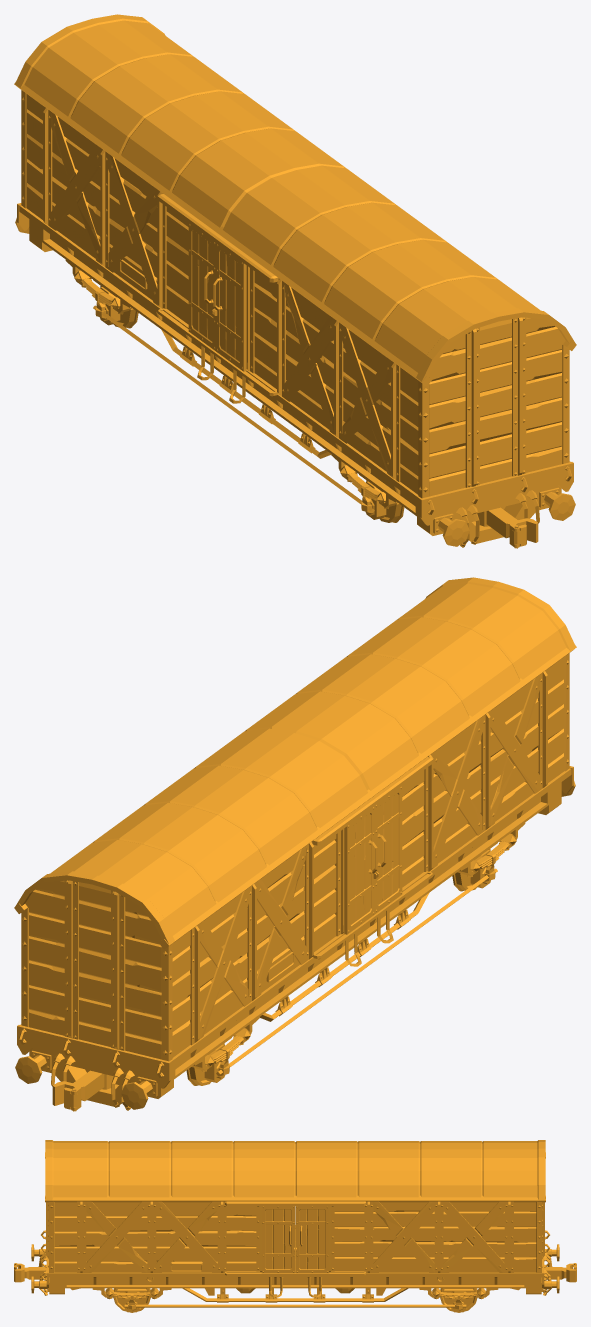
Rendered from SM_Train_Wagon_Western.fbx.
3 views of the same model, one above another, from view 1: azimuth 30°, elevation 25°; view 2: azimuth 150°, elevation 25°; view 3: azimuth 270°, elevation 25° (orthographic). The views are drawn at different scales.
Visible parts, largest first — view 1: SM_Train_Wagon_Western_Base, SM_Train_Wagon_Western_Base_Joint_F; view 2: SM_Train_Wagon_Western_Base, SM_Train_Wagon_Western_Base_Joint_B; view 3: SM_Train_Wagon_Western_Base, SM_Train_Wagon_Western_Base_Joint_B, SM_Train_Wagon_Western_Base_Joint_F, SM_Train_Wagon_Western_Base_Wheel_B, SM_Train_Wagon_Western_Base_Wheel_F.
Part boxes in pixels (x1,y1,x2,y2): SM_Train_Wagon_Western_Base: (14,14,576,547); SM_Train_Wagon_Western_Base_Joint_F: (475,507,538,548); SM_Train_Wagon_Western_Base: (14,577,576,1110); SM_Train_Wagon_Western_Base_Joint_B: (52,1070,115,1111); SM_Train_Wagon_Western_Base: (31,1140,559,1312); SM_Train_Wagon_Western_Base_Joint_B: (544,1263,576,1282); SM_Train_Wagon_Western_Base_Joint_F: (14,1263,46,1282); SM_Train_Wagon_Western_Base_Wheel_B: (440,1288,477,1312); SM_Train_Wagon_Western_Base_Wheel_F: (113,1288,150,1312).
Size of the model in its own units: 3.01 by 4.09 by 13.79.
